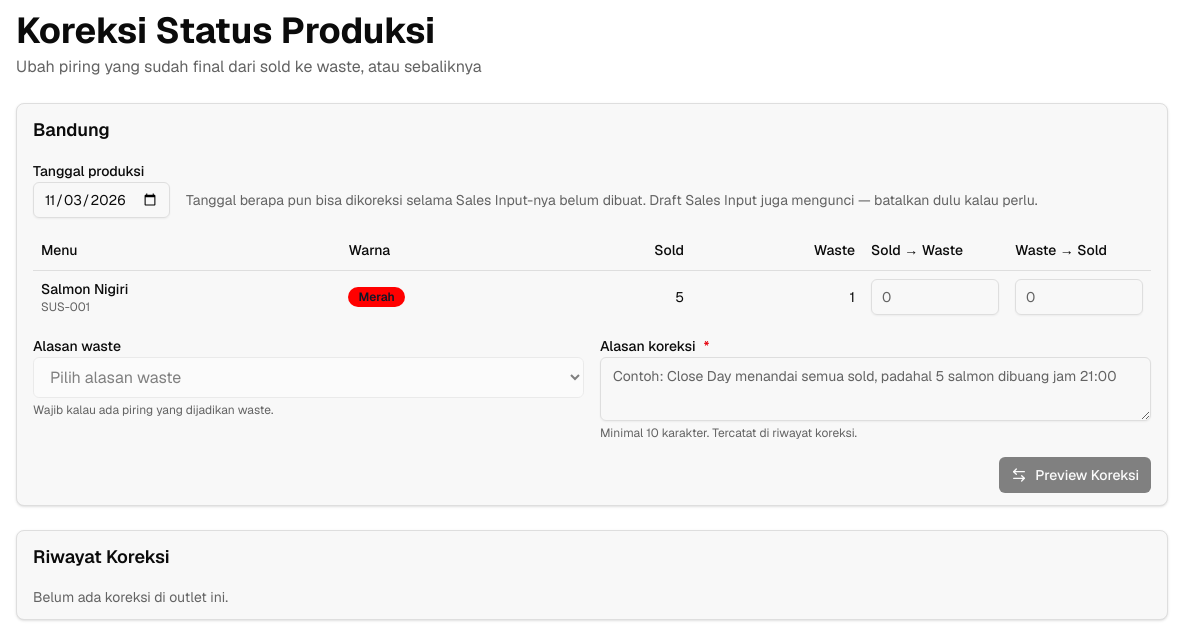
ProductionCorrectionAdmin › koreksi ke waste butuh alasan waste sebelum bisa di-preview
Later steps or results of the test are not shown.
Type "2" into the number field named "Salmon Nigiri sold ke waste" at (935, 296), box [871,278,999,314]
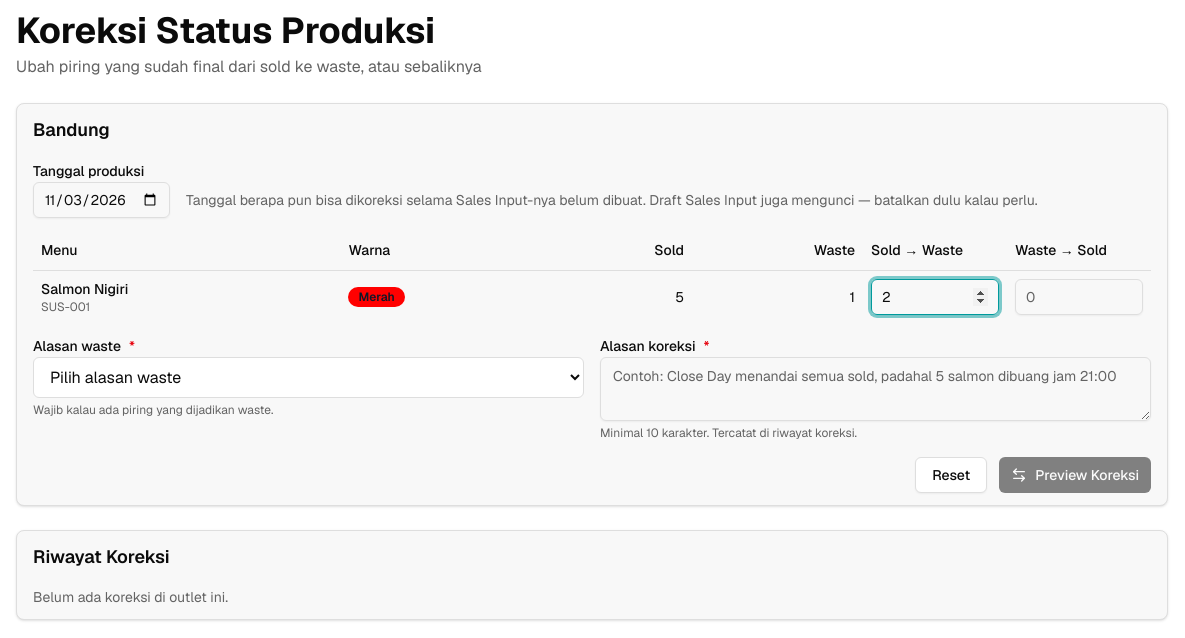
Type "Close Day menandai semua sold padahal dibuang" into the text box labelled "Alasan koreksi *" at (876, 388), box [600,356,1151,420]
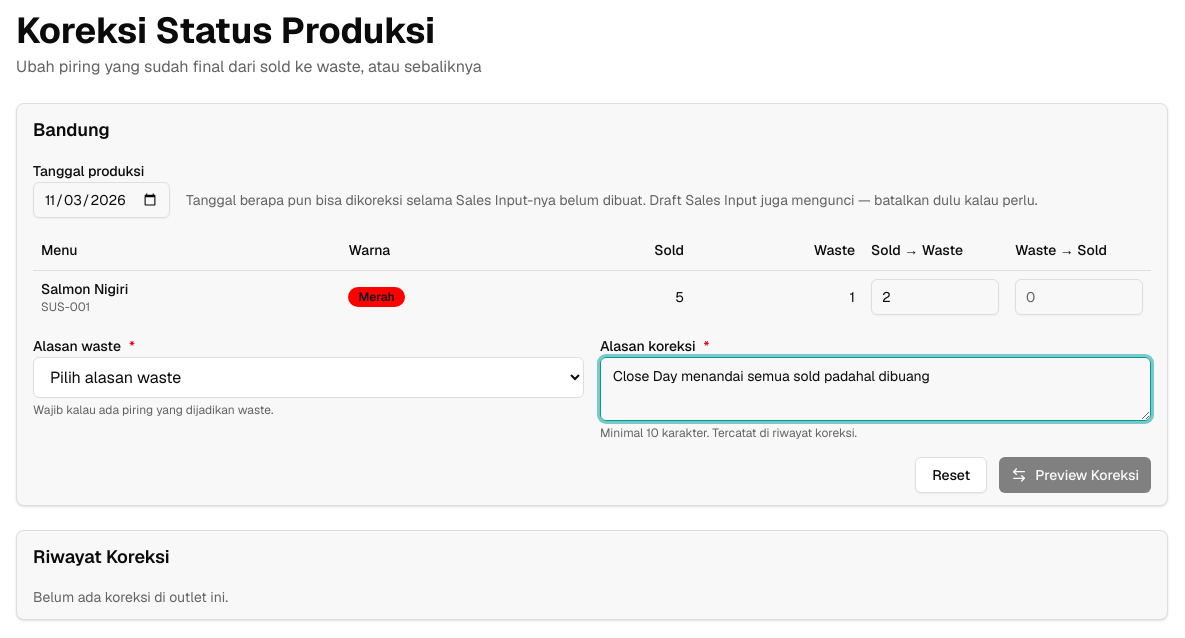
expect the button "Preview Koreksi" is disabled: met, box [999,456,1151,492]
Select "Rusak" in the dropdown labelled "Alasan waste *" at (308, 377), box [33,356,584,398]
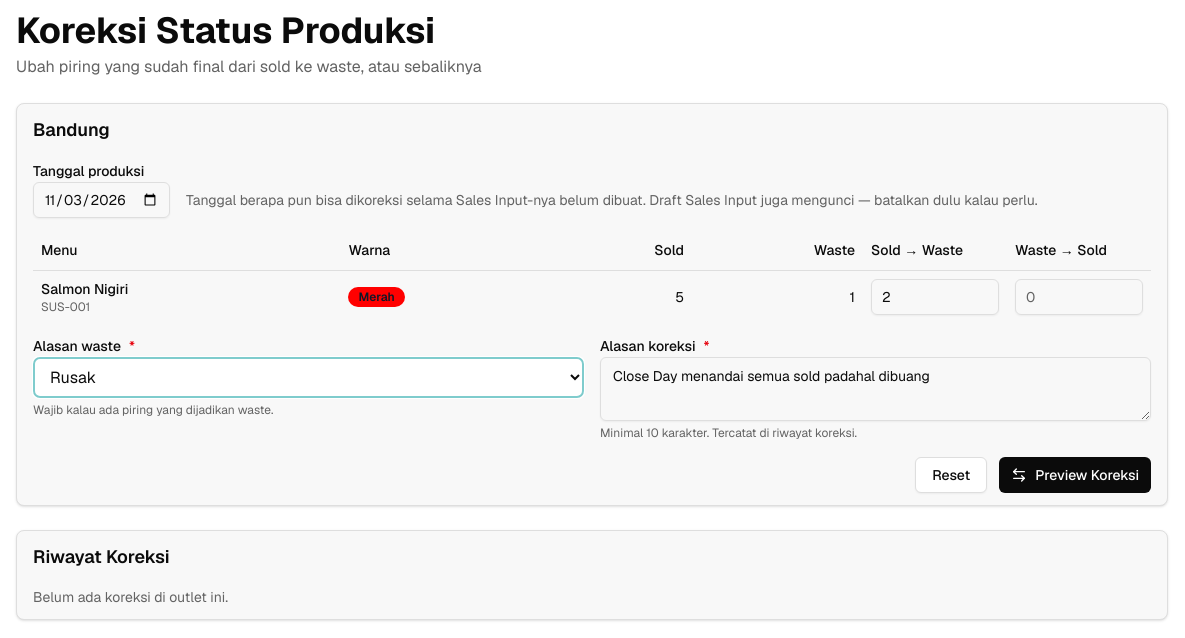
expect the button "Preview Koreksi" is enabled: met, box [999,456,1151,492]
